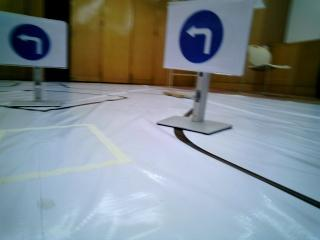left: (171, 8, 235, 65), (3, 14, 70, 63)
